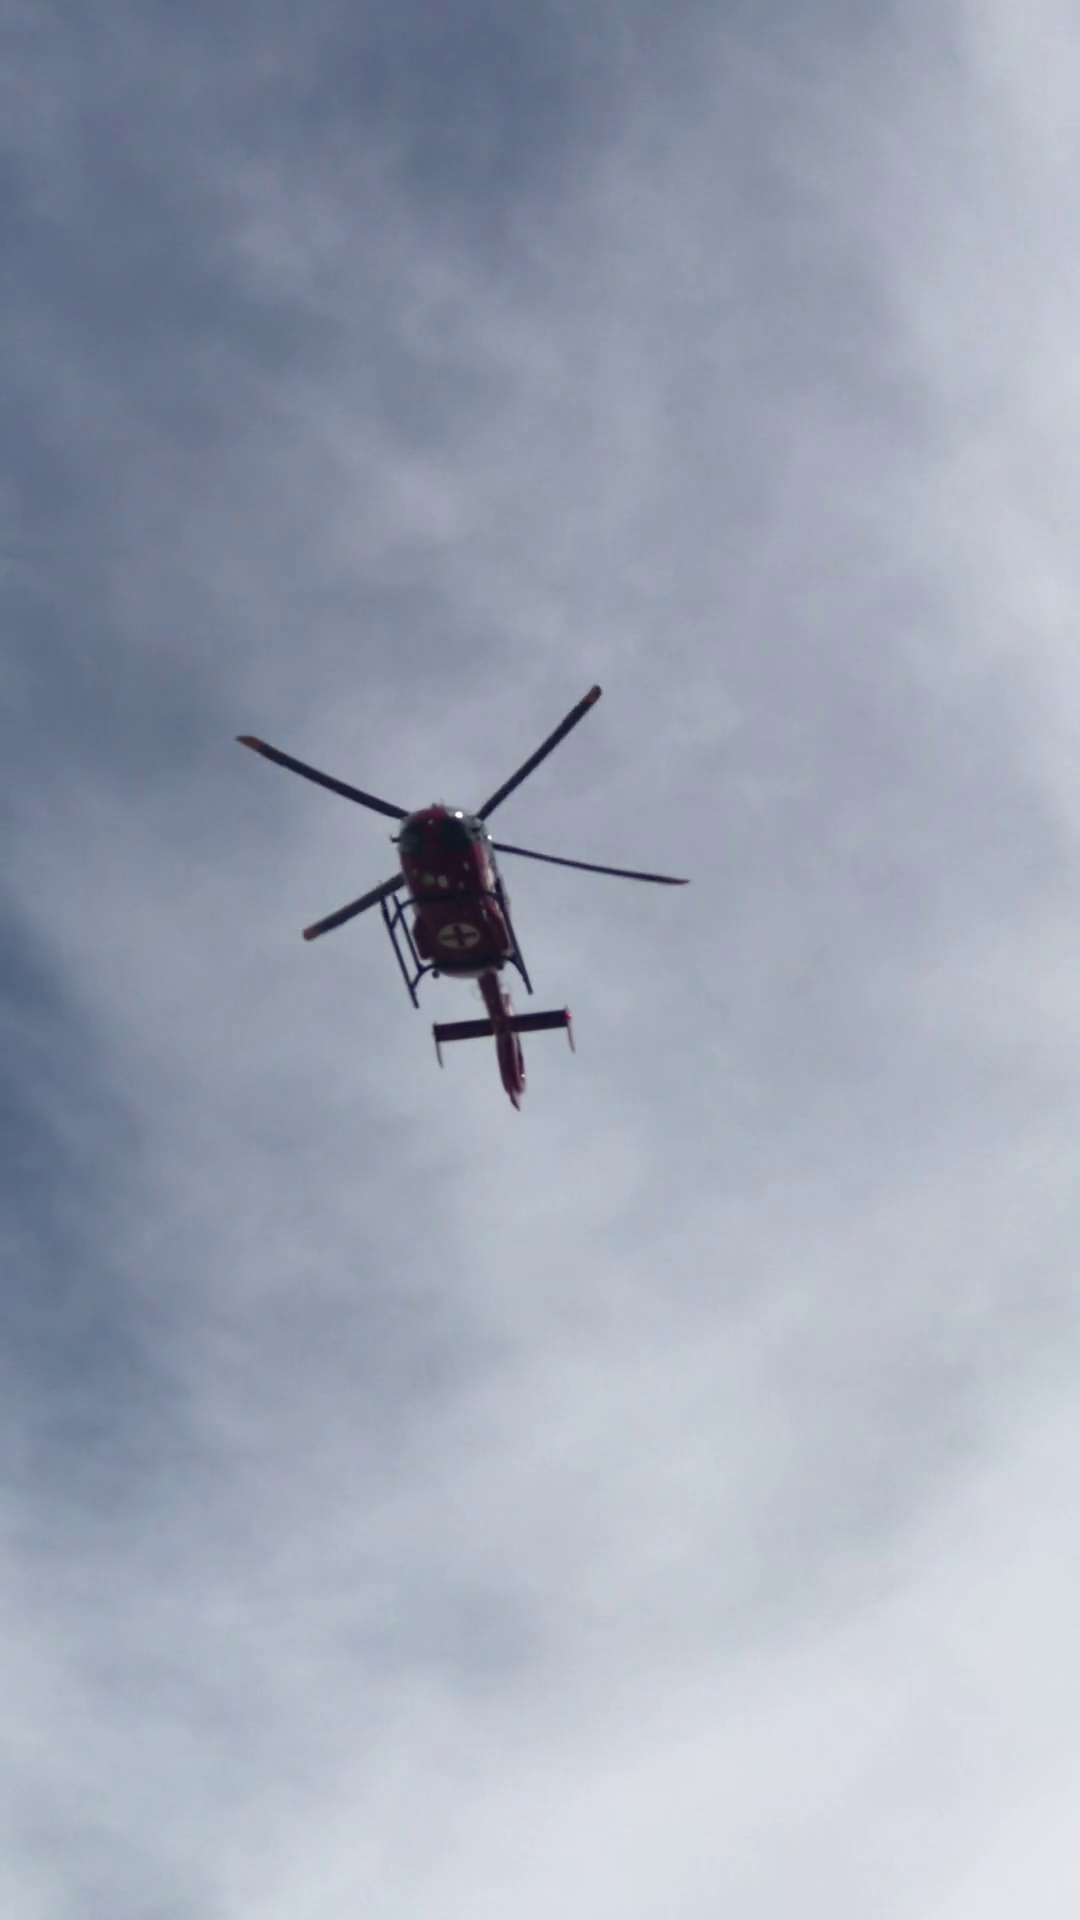heli: (237, 680, 688, 1112)
